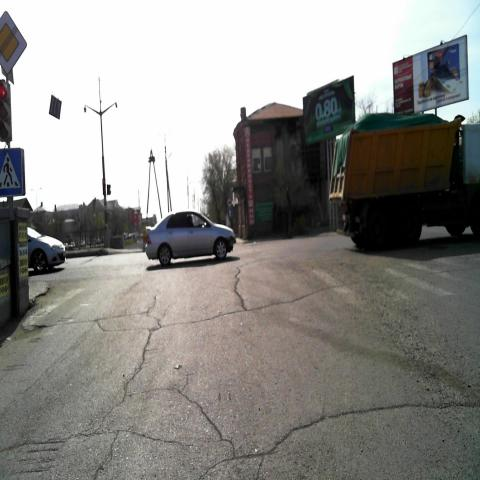2_2: (0, 8, 28, 78)
5_15_7: (49, 95, 62, 120)
5_19_1: (0, 146, 24, 197)
